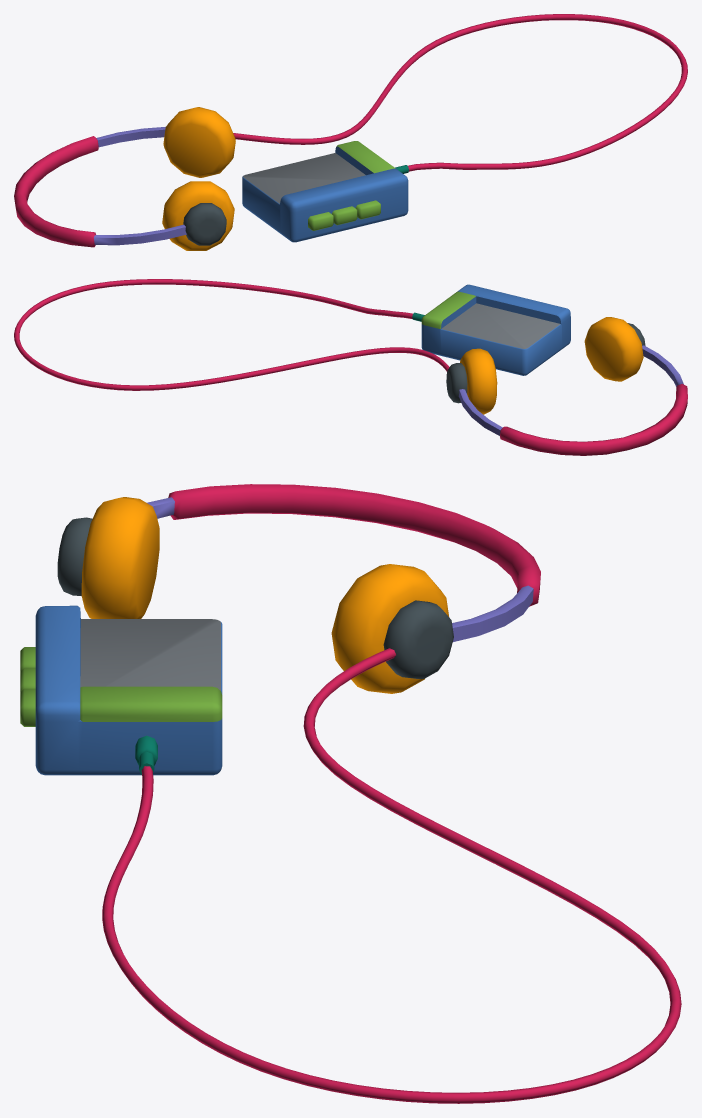
The model's file is Audio_07.glb.
The picture shows the model from 3 angles, top to bottom: view 1: azimuth 30°, elevation 25°; view 2: azimuth 150°, elevation 25°; view 3: azimuth 270°, elevation 25°; orthographic projection. The views are drawn at different scales.
Parts seen in each view (by area): view 1: Audio_07; view 2: Audio_07; view 3: Audio_07.
Boxes of the visible parts, x1,y1,x2,y2 form: Audio_07: (14, 14, 687, 250); Audio_07: (14, 279, 687, 455); Audio_07: (20, 484, 681, 1103).
Size of the model in its own units: 0.7847 by 0.074 by 0.3698.
Materials: 1 (1 with a texture image).
